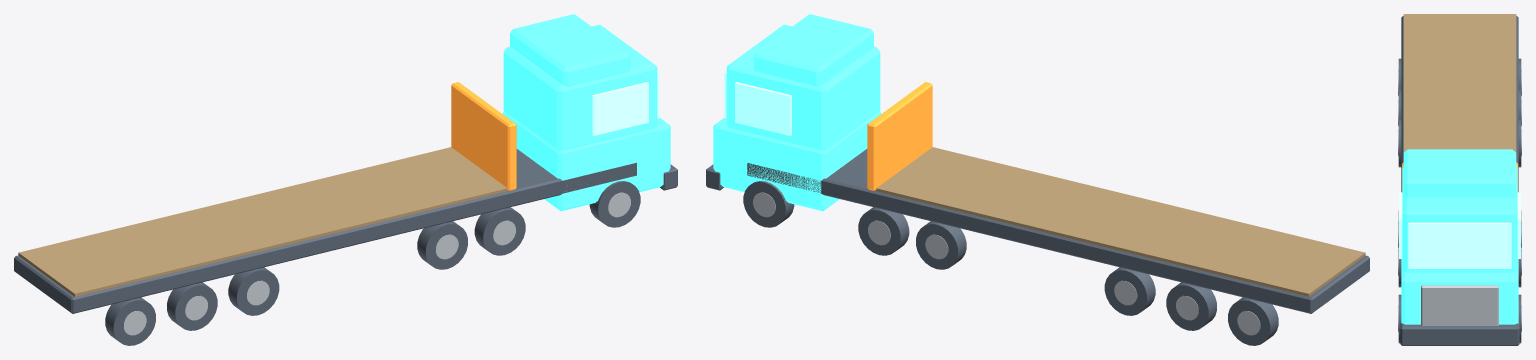
The model's file is road-truck-v4-high.glb.
The picture shows the model from 3 angles, left to right: view 1: azimuth 30°, elevation 25°; view 2: azimuth 150°, elevation 25°; view 3: azimuth 270°, elevation 25°; orthographic projection.
Parts seen in each view (by area): view 1: road-truck-v4-high.glb-v5_timber_dunnage, road-truck-v4-high.glb-v5_tech_cyan, road-truck-v4-high.glb-v5_heavy_gunmetal, road-truck-v4-high.glb-v5_crane_orange, road-truck-v4-high.glb-v5_bright_steel, road-truck-v4-high.glb-v5_cabin_glass; view 2: road-truck-v4-high.glb-v5_timber_dunnage, road-truck-v4-high.glb-v5_tech_cyan, road-truck-v4-high.glb-v5_heavy_gunmetal, road-truck-v4-high.glb-v5_crane_orange, road-truck-v4-high.glb-v5_bright_steel, road-truck-v4-high.glb-v5_cabin_glass; view 3: road-truck-v4-high.glb-v5_timber_dunnage, road-truck-v4-high.glb-v5_tech_cyan, road-truck-v4-high.glb-v5_cabin_glass, road-truck-v4-high.glb-v5_heavy_gunmetal, road-truck-v4-high.glb-v5_bright_steel.
Part boxes in pixels (box(x1,y1,x2,y2)): road-truck-v4-high.glb-v5_timber_dunnage: box(18, 147, 508, 296); road-truck-v4-high.glb-v5_tech_cyan: box(502, 14, 670, 211); road-truck-v4-high.glb-v5_heavy_gunmetal: box(14, 149, 677, 345); road-truck-v4-high.glb-v5_crane_orange: box(451, 82, 516, 190); road-truck-v4-high.glb-v5_bright_steel: box(123, 192, 630, 335); road-truck-v4-high.glb-v5_cabin_glass: box(592, 72, 659, 135); road-truck-v4-high.glb-v5_timber_dunnage: box(875, 147, 1365, 296); road-truck-v4-high.glb-v5_tech_cyan: box(713, 14, 881, 211); road-truck-v4-high.glb-v5_heavy_gunmetal: box(706, 149, 1369, 345); road-truck-v4-high.glb-v5_crane_orange: box(867, 82, 932, 190); road-truck-v4-high.glb-v5_bright_steel: box(753, 192, 1260, 335); road-truck-v4-high.glb-v5_cabin_glass: box(724, 72, 791, 135); road-truck-v4-high.glb-v5_timber_dunnage: box(1403, 14, 1516, 152); road-truck-v4-high.glb-v5_tech_cyan: box(1401, 149, 1518, 324); road-truck-v4-high.glb-v5_cabin_glass: box(1399, 192, 1520, 268); road-truck-v4-high.glb-v5_heavy_gunmetal: box(1398, 16, 1521, 345); road-truck-v4-high.glb-v5_bright_steel: box(1398, 70, 1521, 331).
Size of the model in its own units: 14.77 by 3.92 by 2.62.
